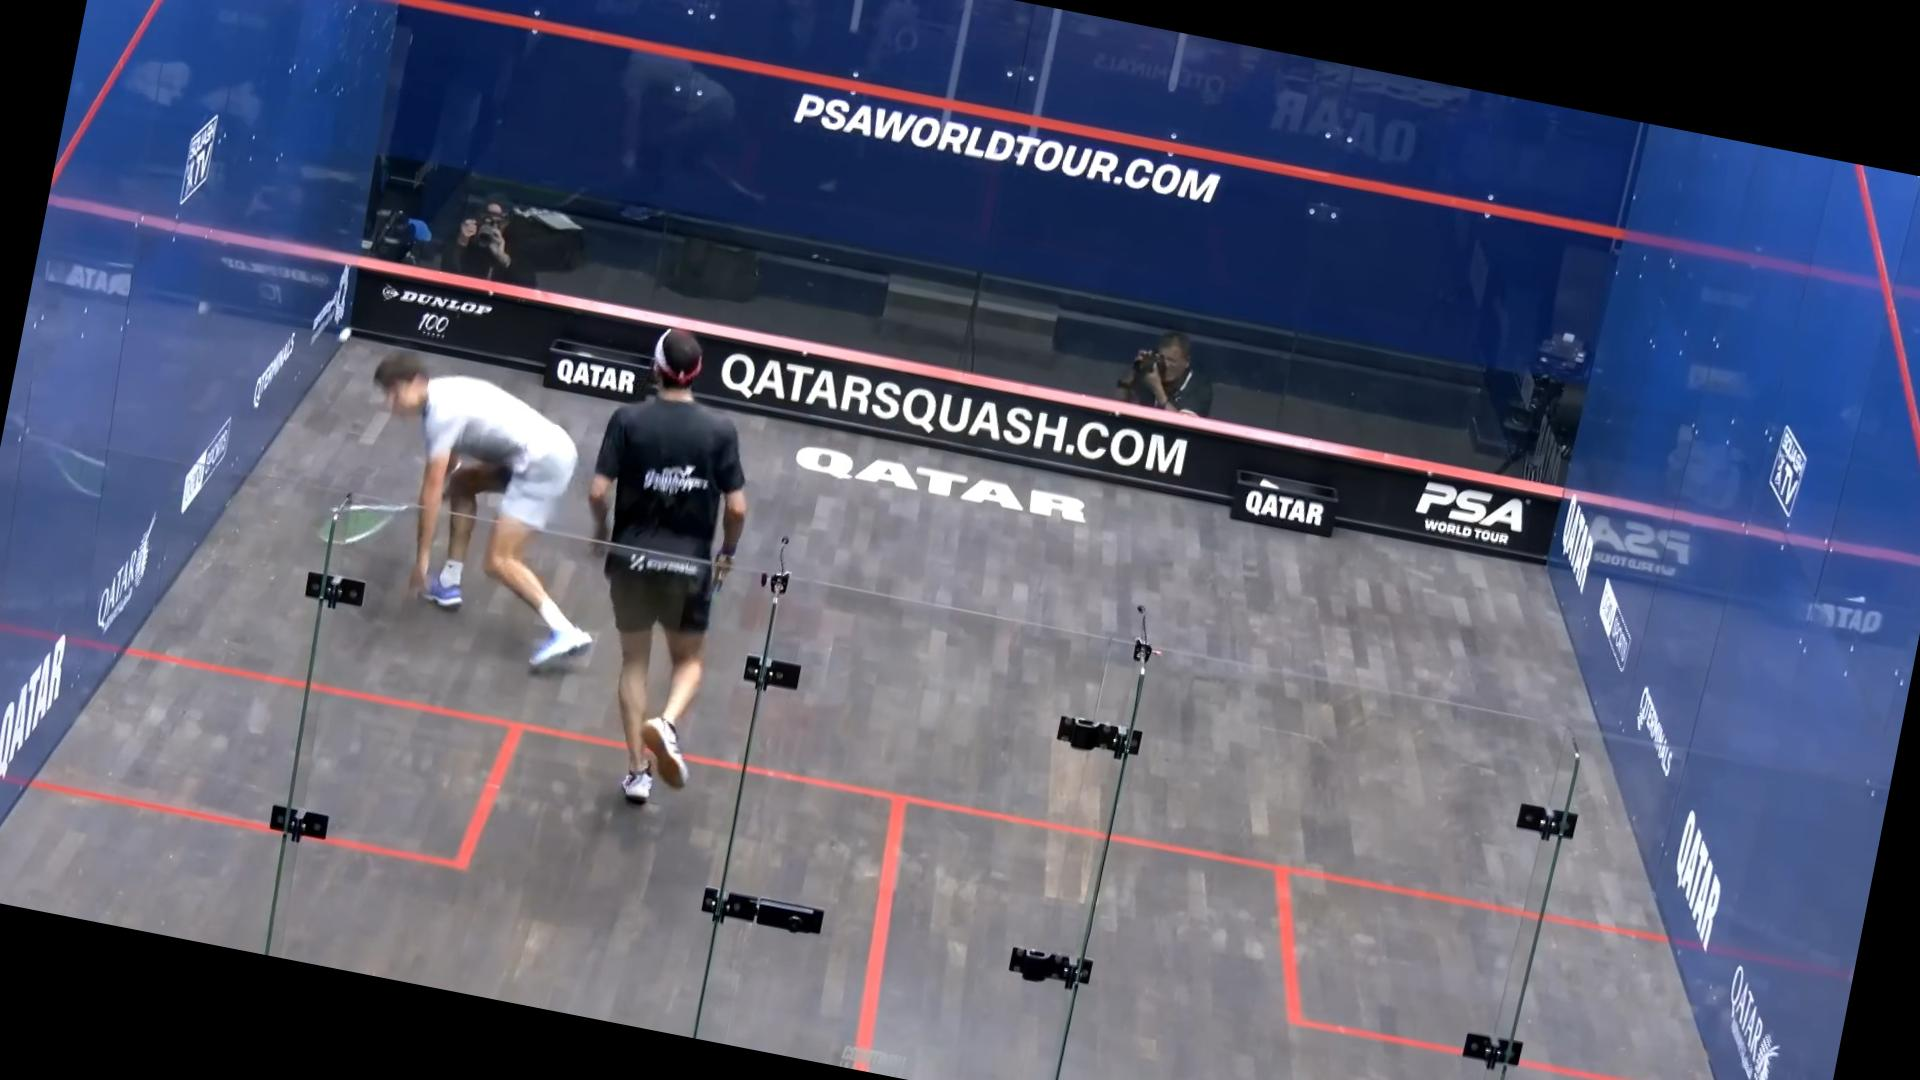Racket: (298, 476, 421, 567)
